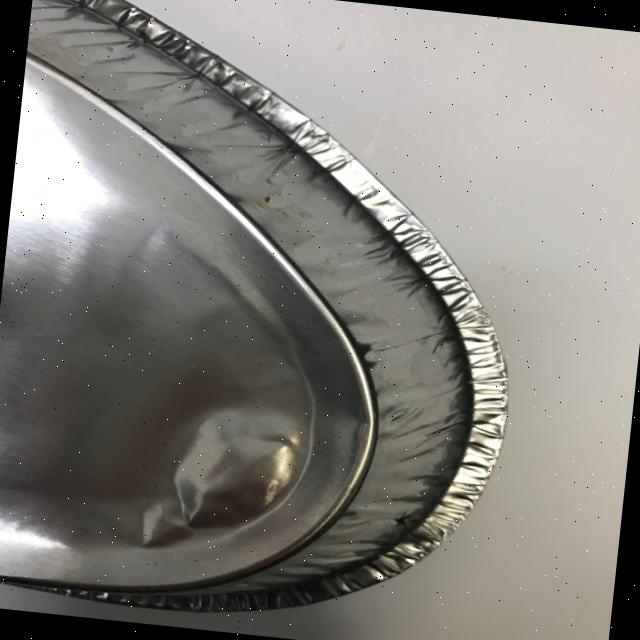metal: (0, 0, 549, 640)
